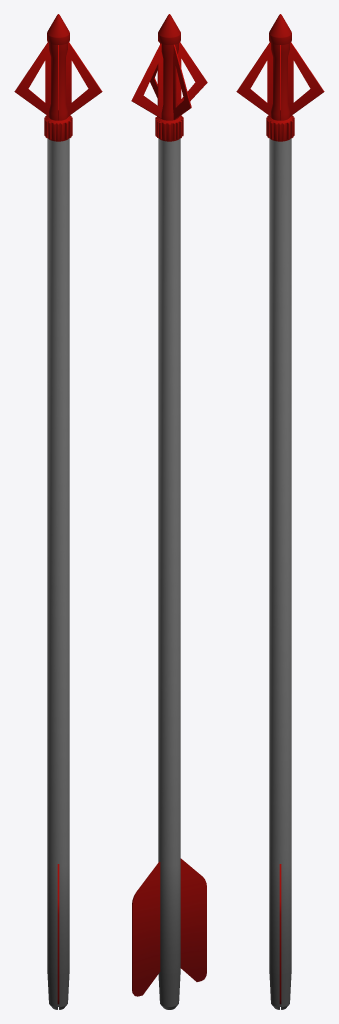
Rendered from Arrow.glb.
3 views of the same model, side by side, from view 1: azimuth 90°, elevation 25°; view 2: azimuth 210°, elevation 25°; view 3: azimuth 270°, elevation 25° (orthographic).
Visible parts, largest first — view 1: Attow; view 2: Attow; view 3: Attow.
Boxes of the visible parts, bbox=[...] form: Attow: bbox=[14, 14, 102, 1009]; Attow: bbox=[131, 14, 207, 1009]; Attow: bbox=[236, 14, 324, 1009].
Size of the model in its own units: 0.0661 by 0.8235 by 0.0661.
1 material, 1 textured.
